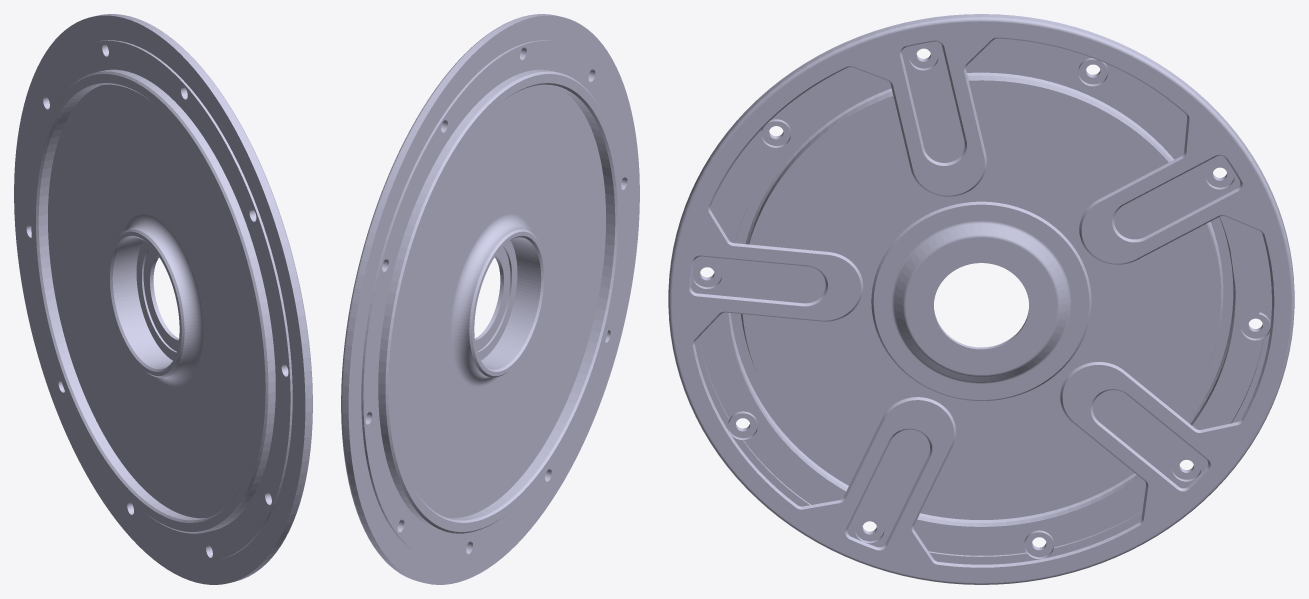
The model's file is botwheel_housing1.dae.
The picture shows the model from 3 angles, left to right: view 1: azimuth 30°, elevation 25°; view 2: azimuth 150°, elevation 25°; view 3: azimuth 270°, elevation 25°; orthographic projection. The views are drawn at different scales.
Visible parts, largest first — view 1: node0; view 2: node0; view 3: node0.
Boxes of the visible parts, x1=… form: node0: x1=14, y1=14, x2=312, y2=584; node0: x1=341, y1=14, x2=639, y2=584; node0: x1=668, y1=14, x2=1294, y2=584.
Bounding box in the file's own units: 0.0085 × 0.138 × 0.138.
